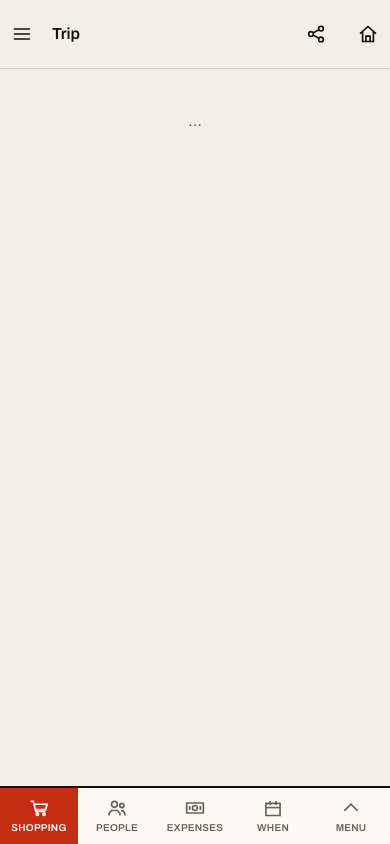
Test: EventTabs › opens on the stage's own tab and reaches the others through the menu drawer
Click the button "Menu": (351, 816) [312,788,389,843]
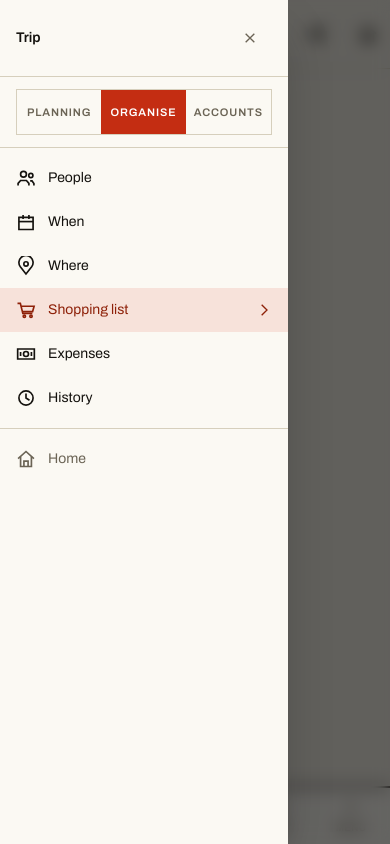
Click the button "People": (70, 178) [0,156,288,200]
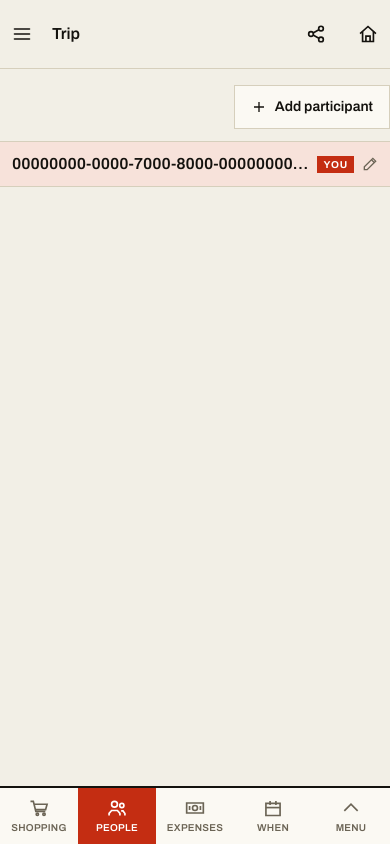
expect the dialog is gone: met
expect the button "Add participant" is shown: met, box [234,85,389,129]
